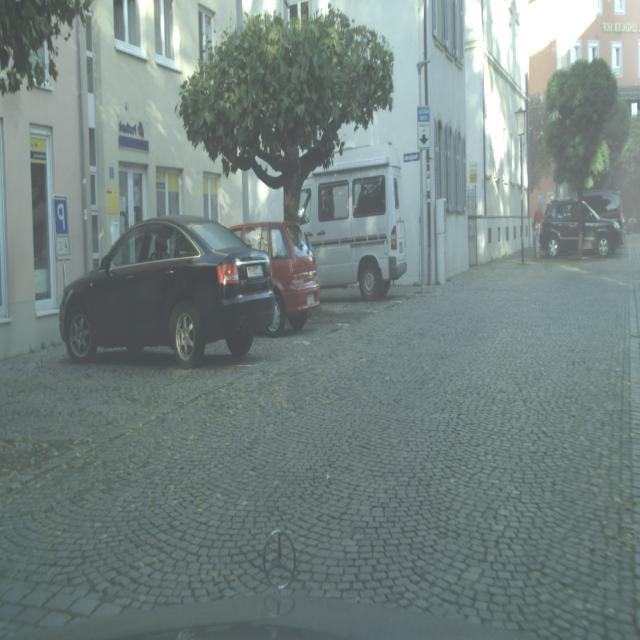bicycle: (298, 141, 407, 301)
bus: (58, 214, 275, 368), (229, 220, 321, 336), (539, 197, 624, 259)
